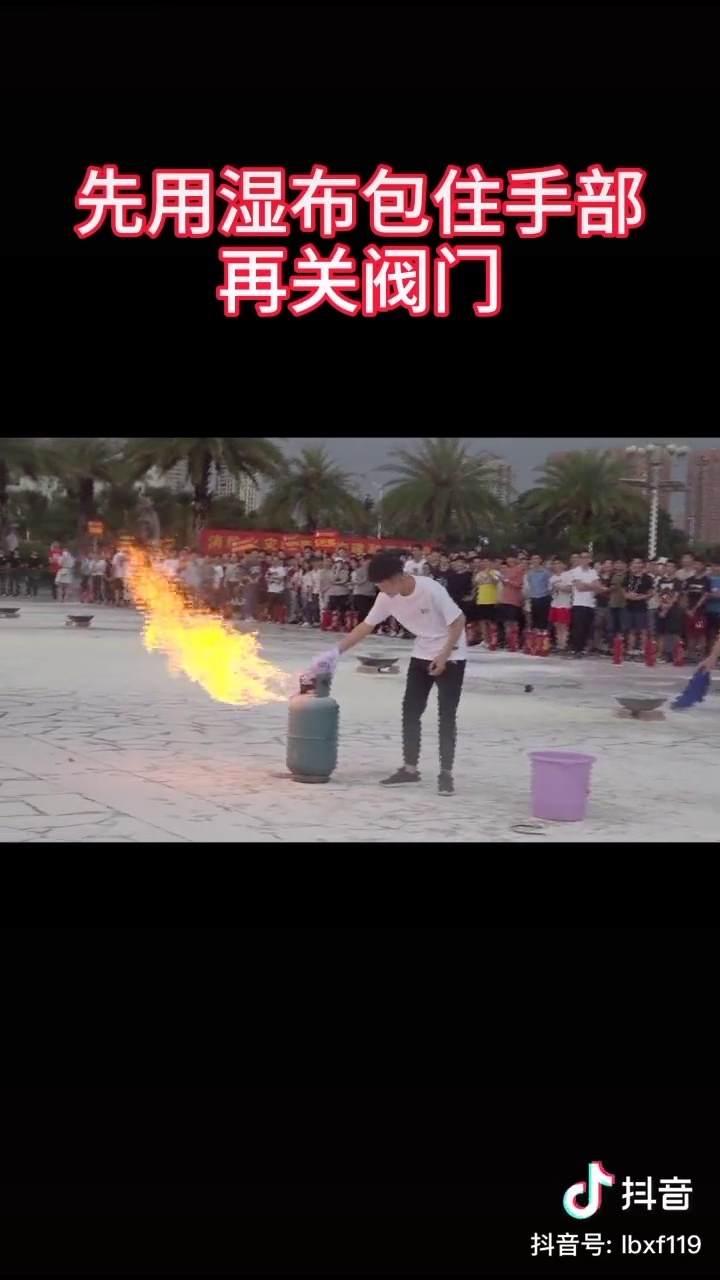fire: (111, 543, 276, 700)
